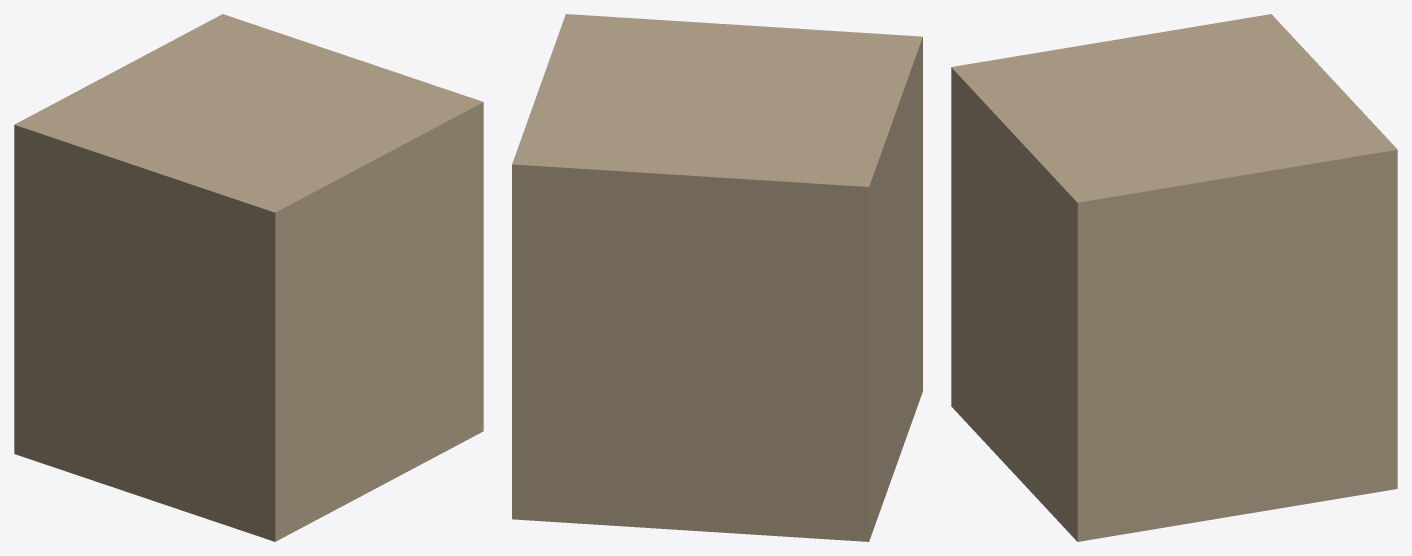
File: bld_101805867.dae
3 renders of one model, left to right at view 1: azimuth 30°, elevation 25°; view 2: azimuth 150°, elevation 25°; view 3: azimuth 270°, elevation 25°, orthographic. The views are drawn at different scales.
Visible parts, largest first — view 1: bld_101805867; view 2: bld_101805867; view 3: bld_101805867.
Part boxes in pixels (left/top/right/bottom): bld_101805867: left=14, top=14, right=483, bottom=541; bld_101805867: left=512, top=14, right=922, bottom=541; bld_101805867: left=951, top=14, right=1397, bottom=541.
Size of the model in its own units: 9.55 by 9.55 by 8.
